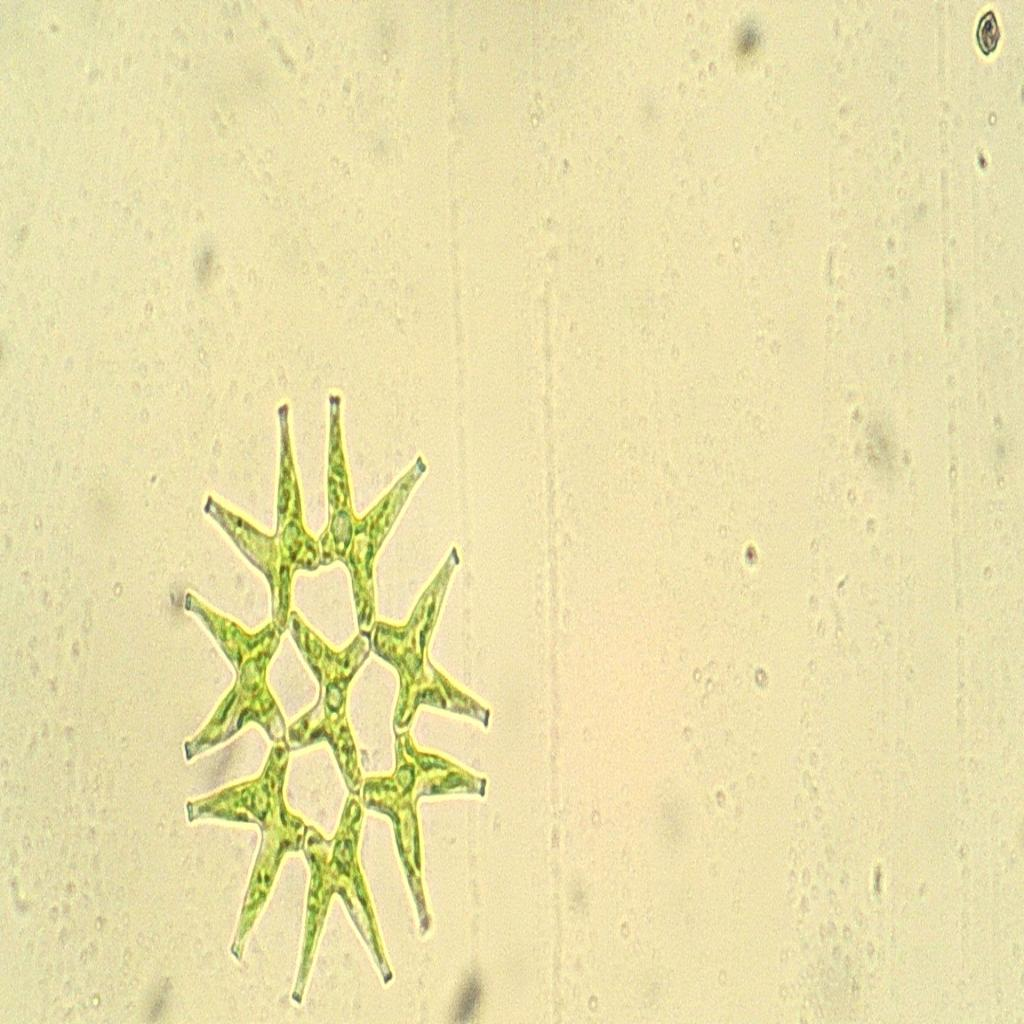Pediastrum_1T: (159, 362, 509, 1018)
